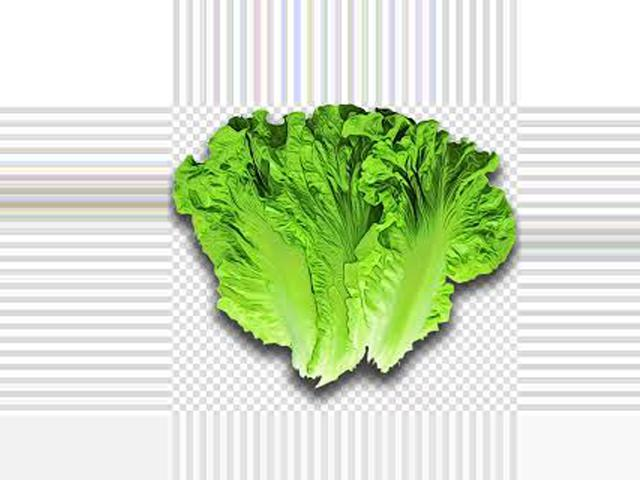lettuce: (178, 106, 523, 392)
